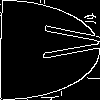V: (24, 25, 100, 59)
